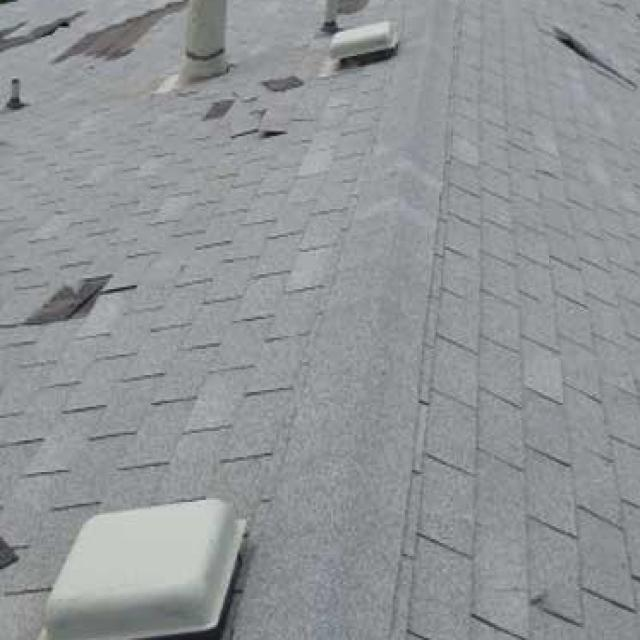damage: (54, 0, 189, 62), (554, 28, 634, 89), (22, 274, 112, 326), (224, 96, 292, 143), (0, 12, 85, 49), (260, 75, 310, 93), (203, 97, 237, 120), (0, 534, 17, 573)
